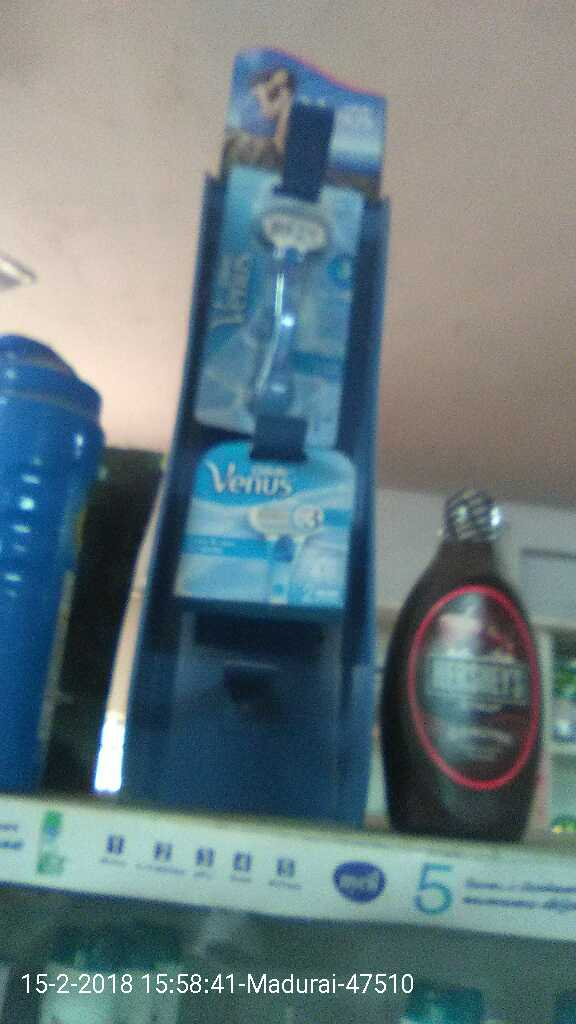venus: (159, 436, 374, 615), (214, 157, 352, 434)
